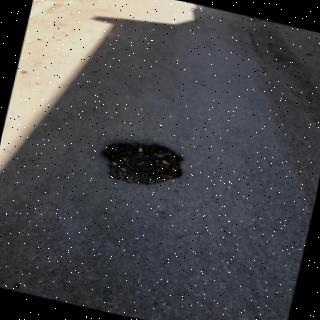pothole: (102, 142, 182, 186)
